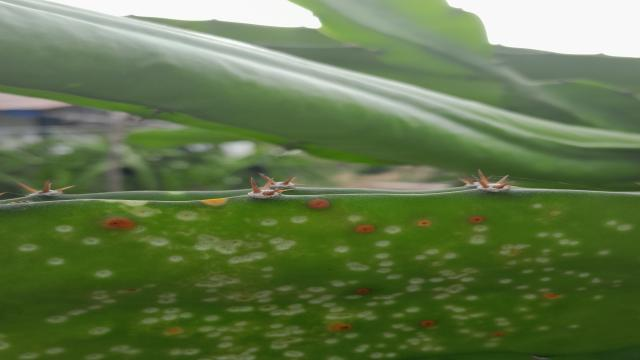stemcanker: (0, 198, 639, 360)
